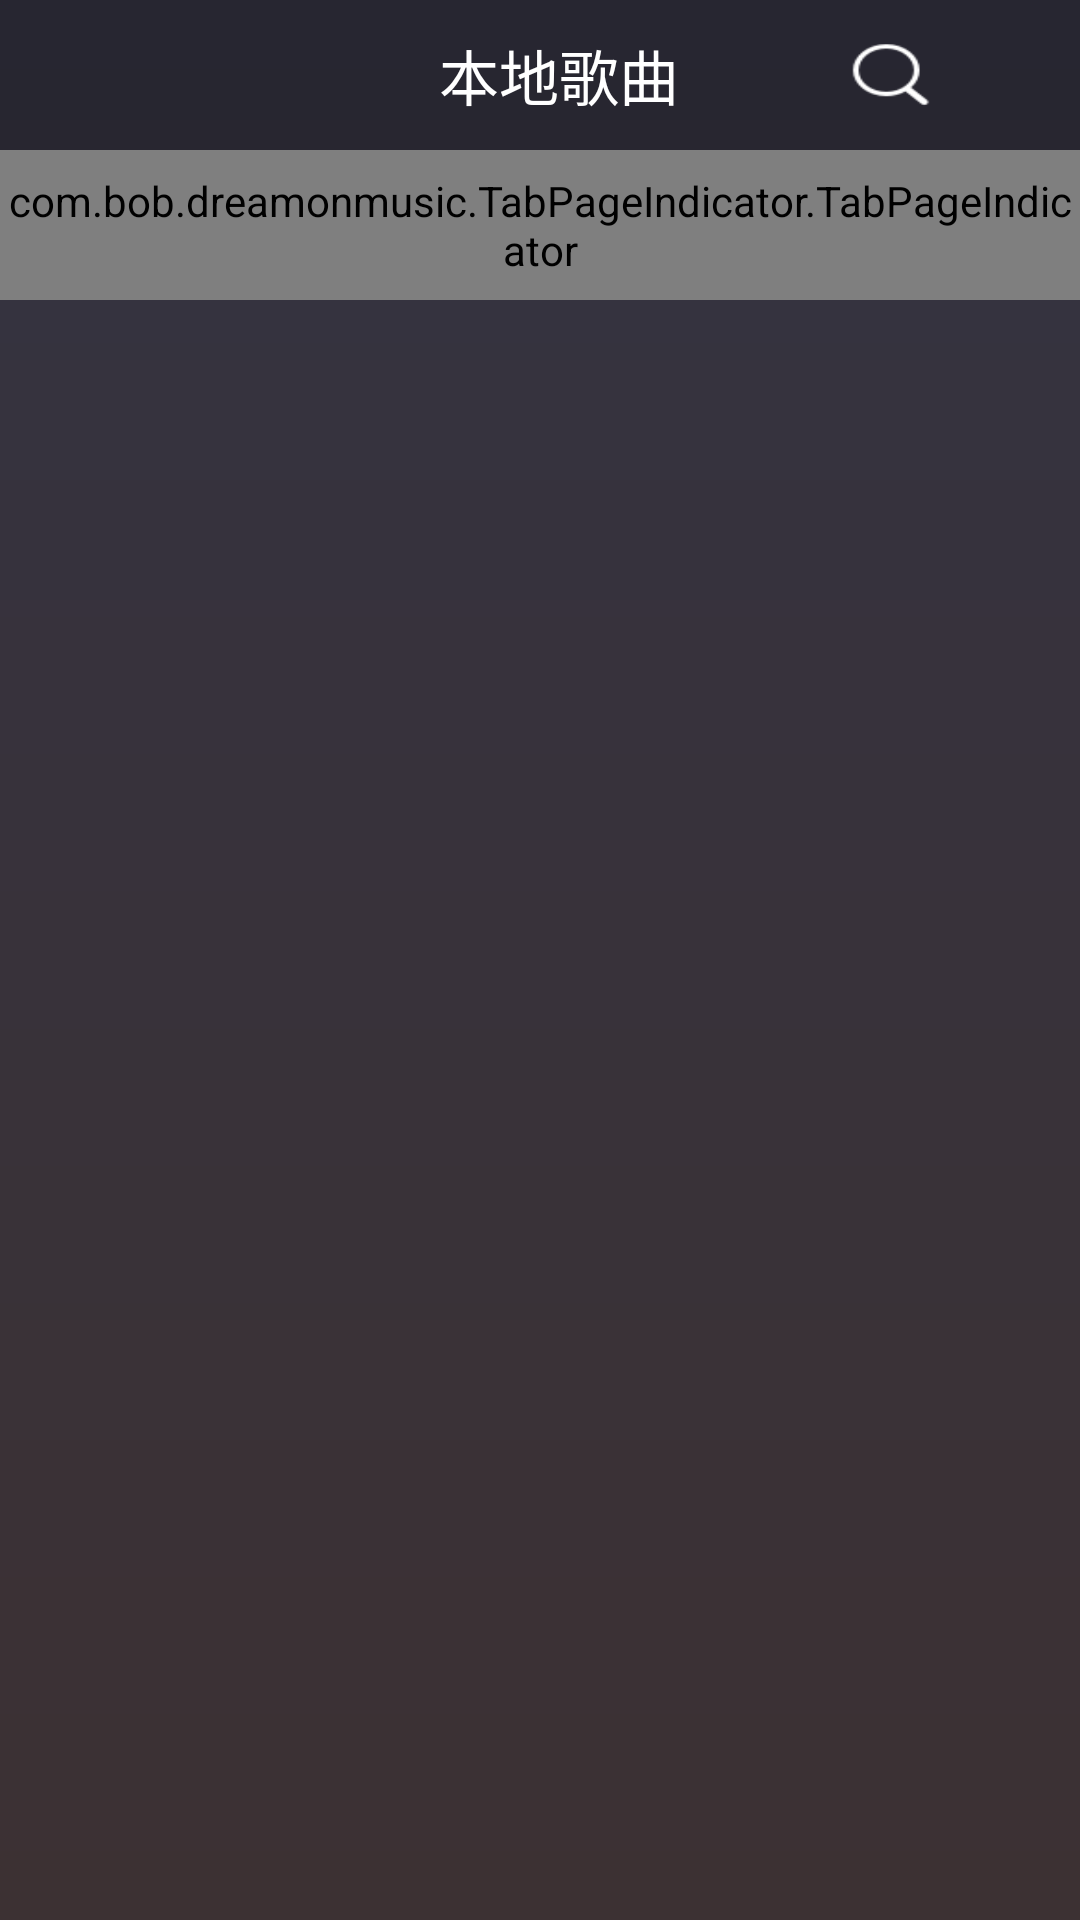

Icon bounding boxes for this 1080 × 1920 phone screenshot, format bbox=[x1, y1, x2, y2]:
titlebar search: bbox=[852, 44, 929, 105]
